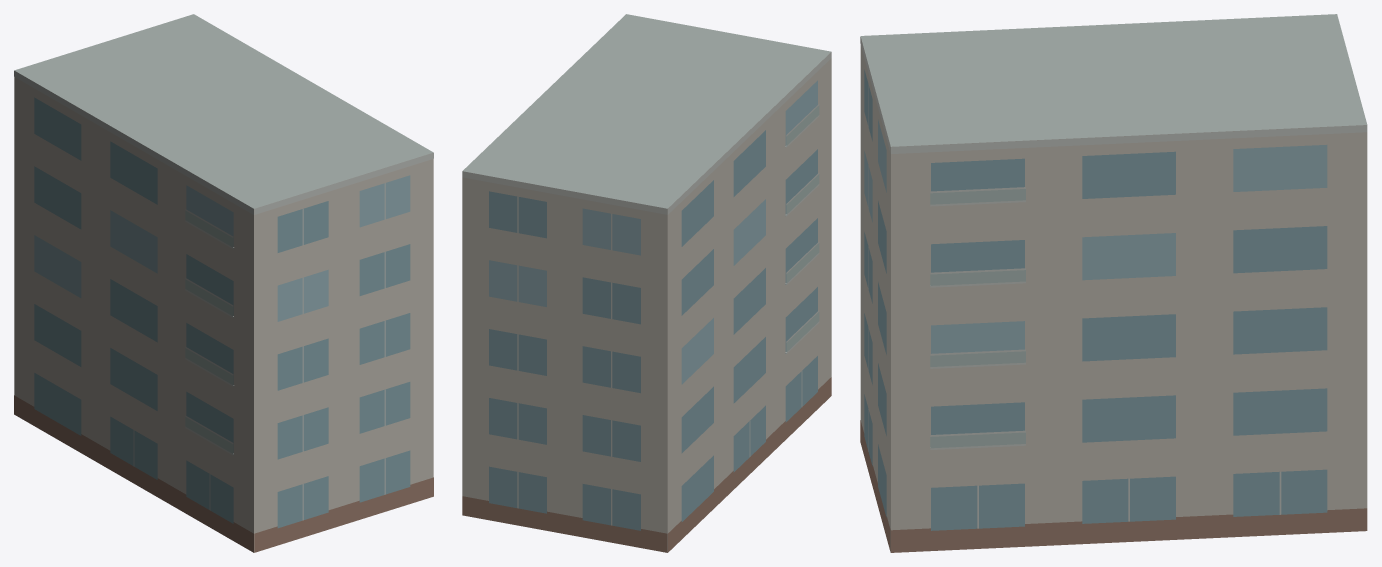
File: survey-upis-32887504.glb
3 views of the same model, side by side, from view 1: azimuth 30°, elevation 25°; view 2: azimuth 150°, elevation 25°; view 3: azimuth 270°, elevation 25° (orthographic). The views are drawn at different scales.
Parts seen in each view (by area): view 1: survey-upis-32887504.tmp; view 2: survey-upis-32887504.tmp; view 3: survey-upis-32887504.tmp.
Part boxes in pixels (<box>): survey-upis-32887504.tmp: <box>14,14,433,552</box>; survey-upis-32887504.tmp: <box>462,14,831,552</box>; survey-upis-32887504.tmp: <box>860,14,1367,552</box>.
Bounding box in the file's own units: 9.48 × 13.5 × 15.29.
